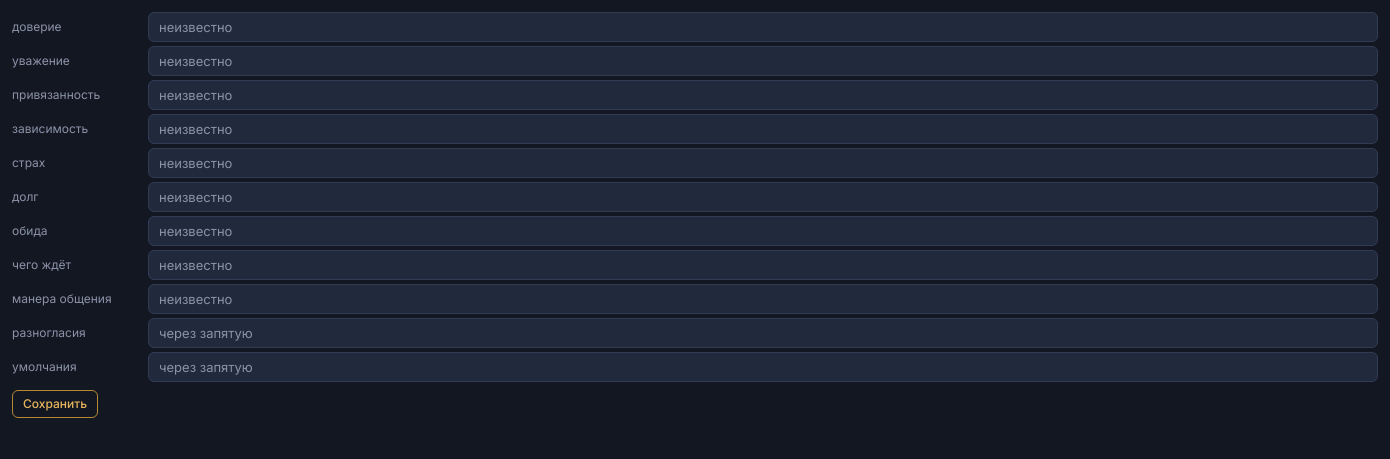
Test: RelationshipQualities › 409 показывает понятное сообщение, а не код
The width and height of the screenshot is (1390, 459).
Type "х" into the field labelled "доверие" at (763, 27), box [148,12,1378,42]
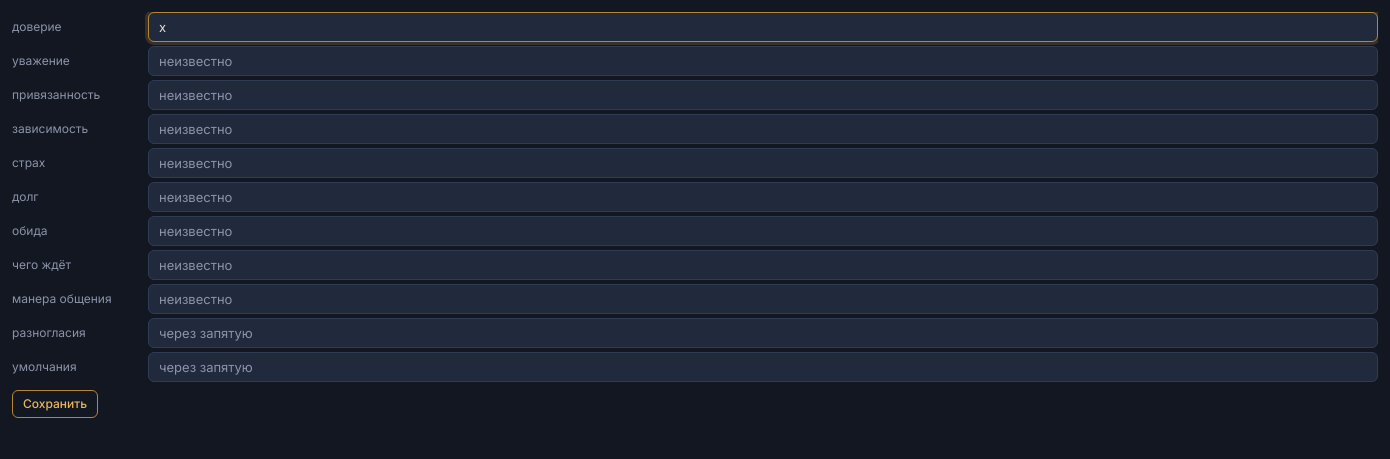
Click the button "Сохранить" at (55, 404), box [12,390,98,418]
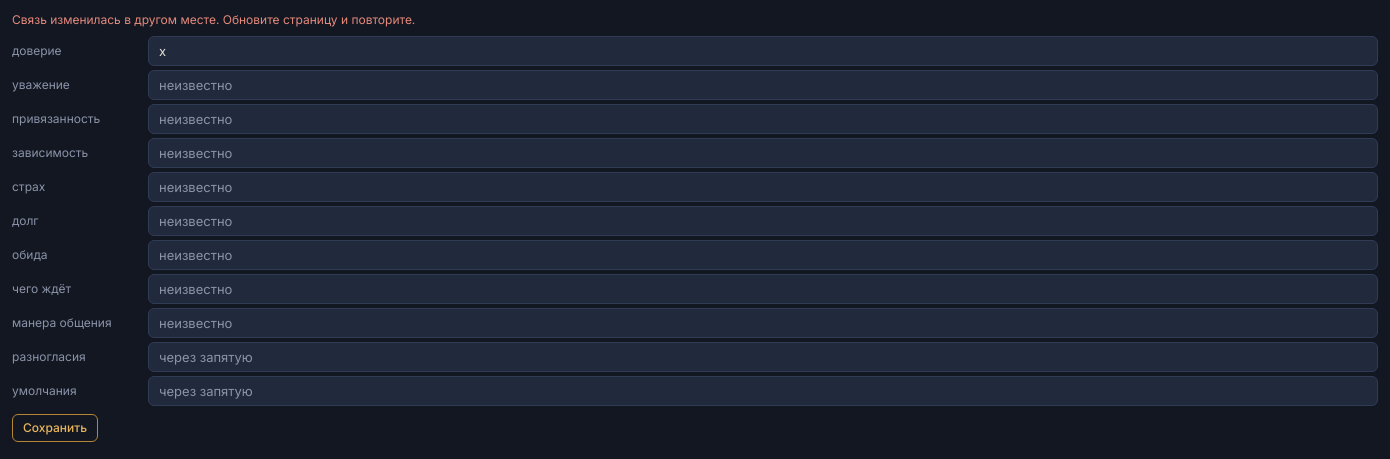
Now the message shows "изменилась", box [12,12,415,27]
